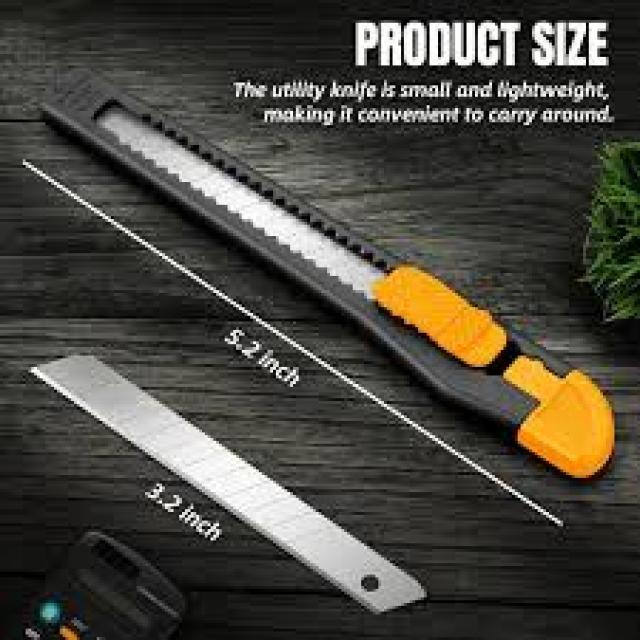cutter: (29, 61, 624, 493)
